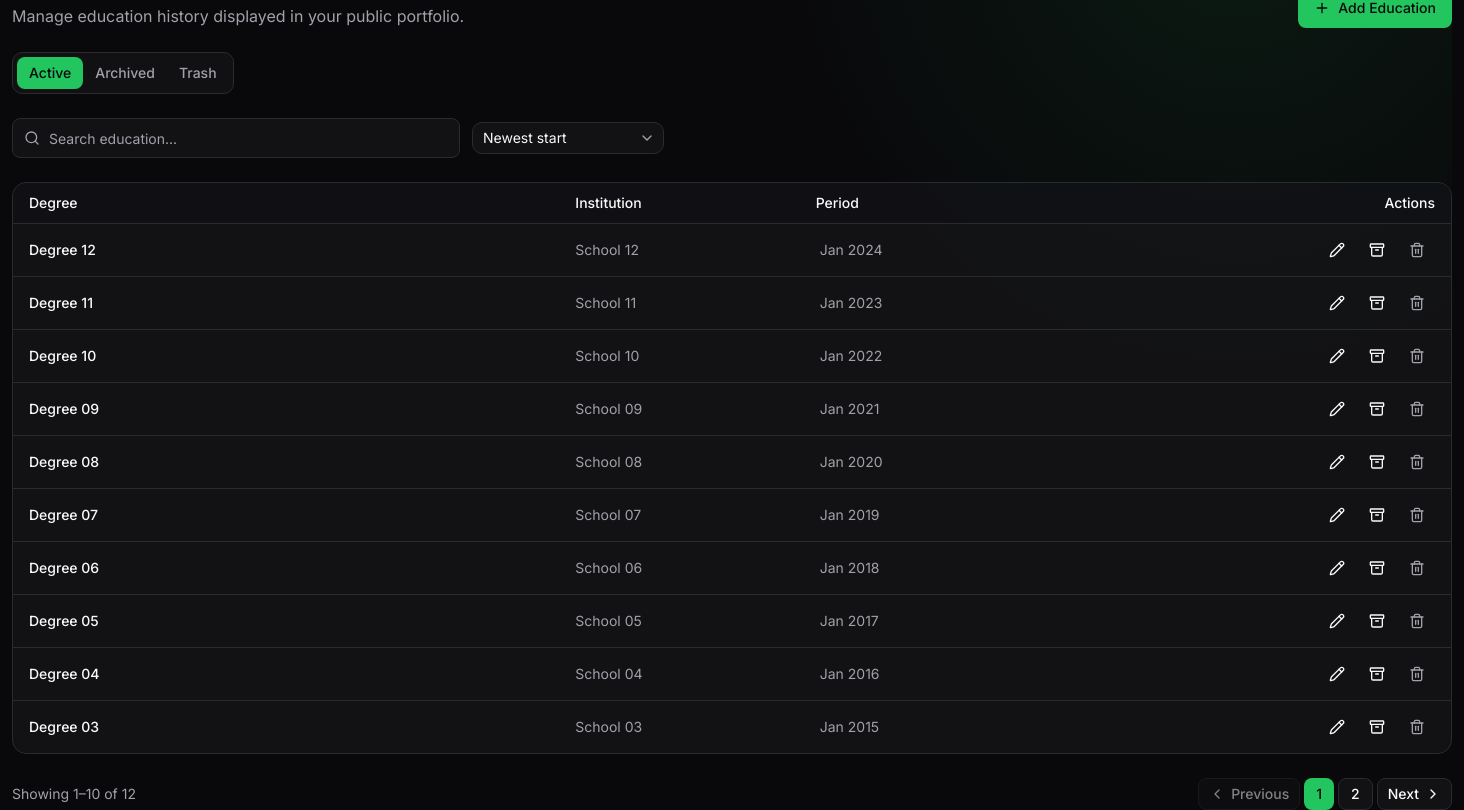
EducationView › paginates entries and moves to page 2
The width and height of the screenshot is (1464, 810).
(page scrolled)
Expected: the text "Showing 1–10 of 12" is shown, left=12, top=784, right=136, bottom=804
Expected: the text "Degree 12" is shown, left=13, top=223, right=567, bottom=276
Click the button named "Page 2".
click(1355, 794)  # box left=1338, top=778, right=1373, bottom=809
(page scrolled)
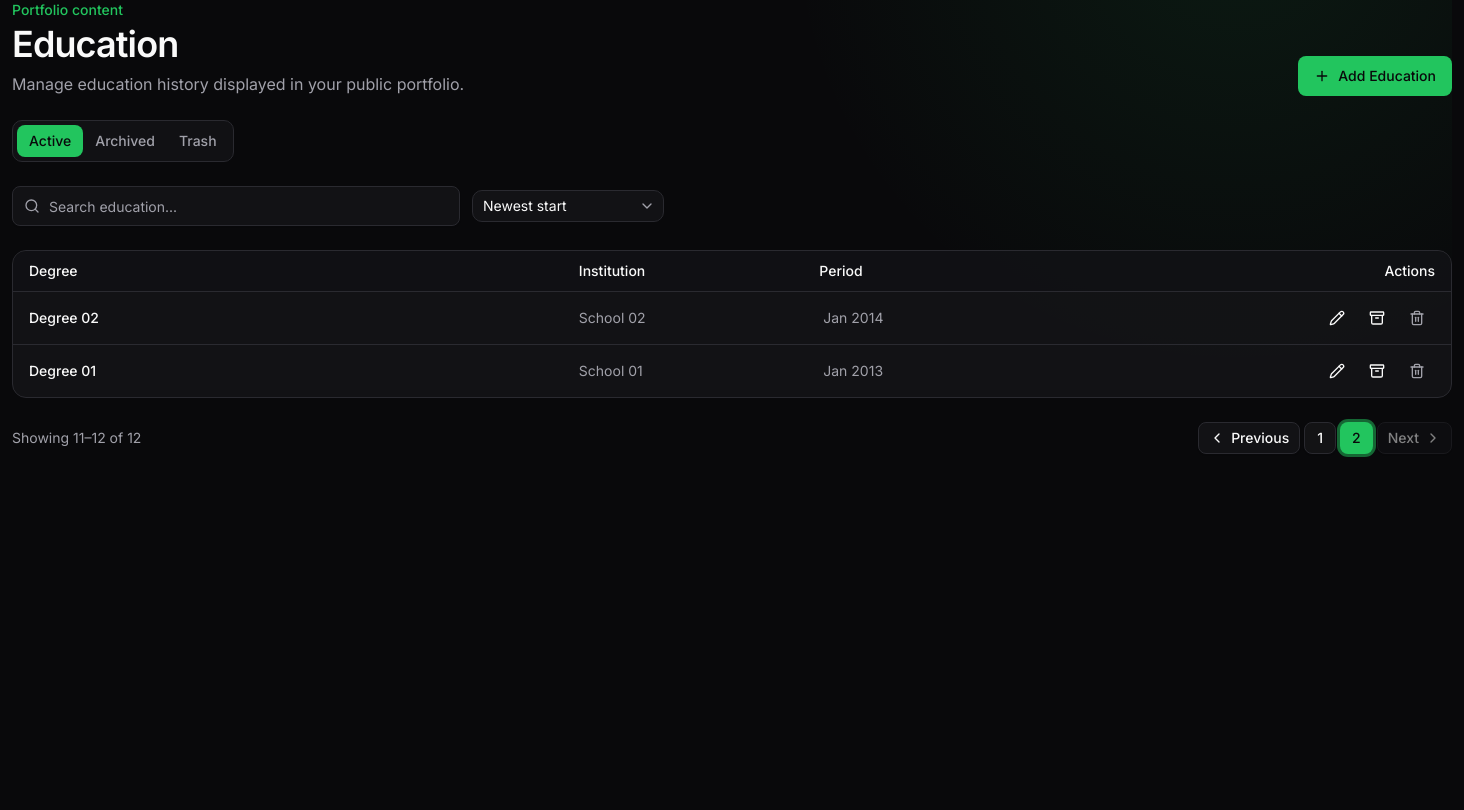
Result: the text "Showing 11–12 of 12" is shown at left=12, top=428, right=141, bottom=448
Result: the text "Degree 01" is shown at left=13, top=344, right=571, bottom=396
